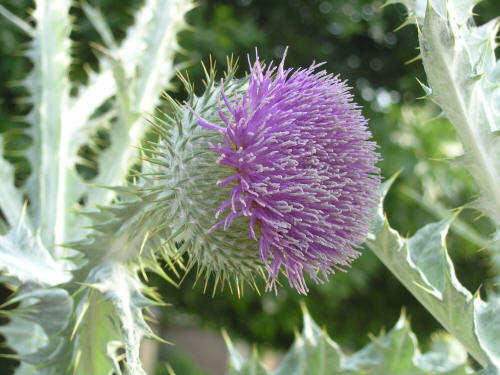thistle: (119, 56, 388, 296)
